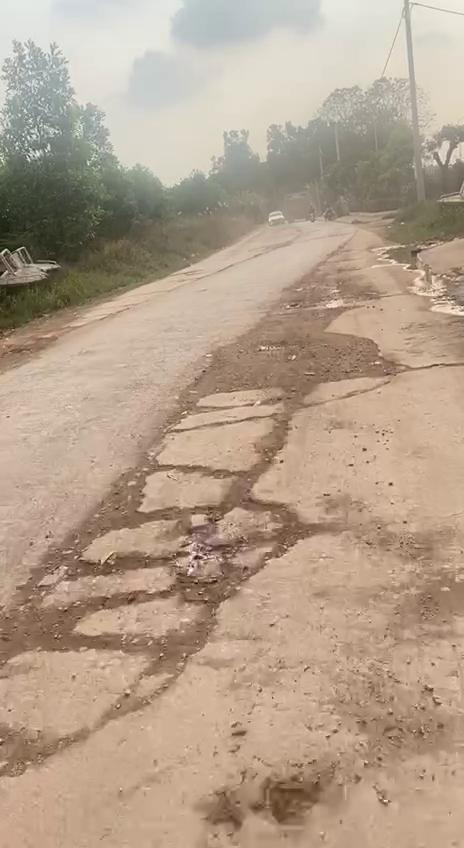pothole: (22, 486, 320, 668)
